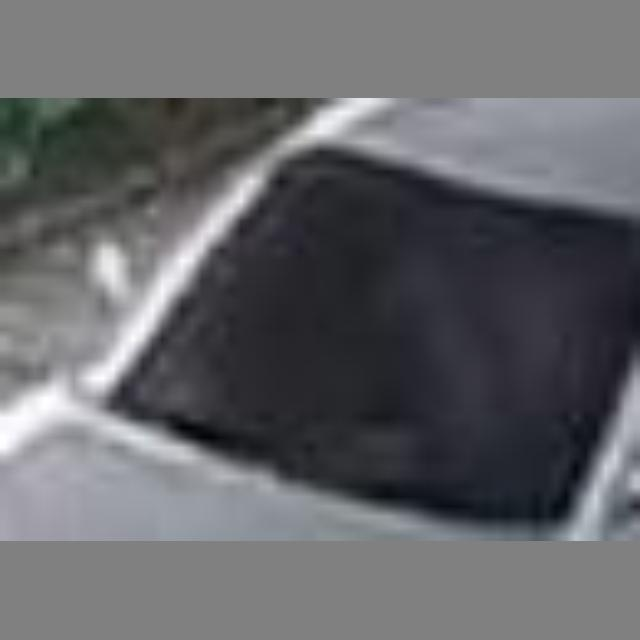pakai: (335, 216, 591, 472)
